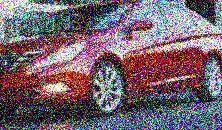car: (0, 0, 222, 124)
